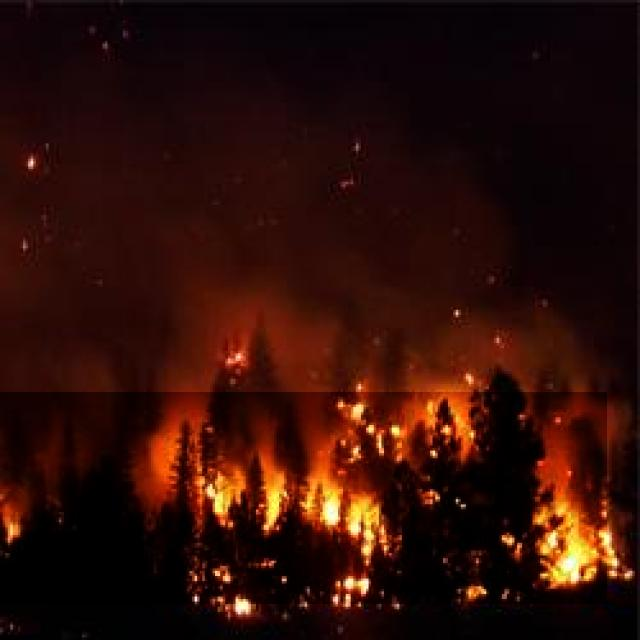Fire: (0, 392, 607, 604)
